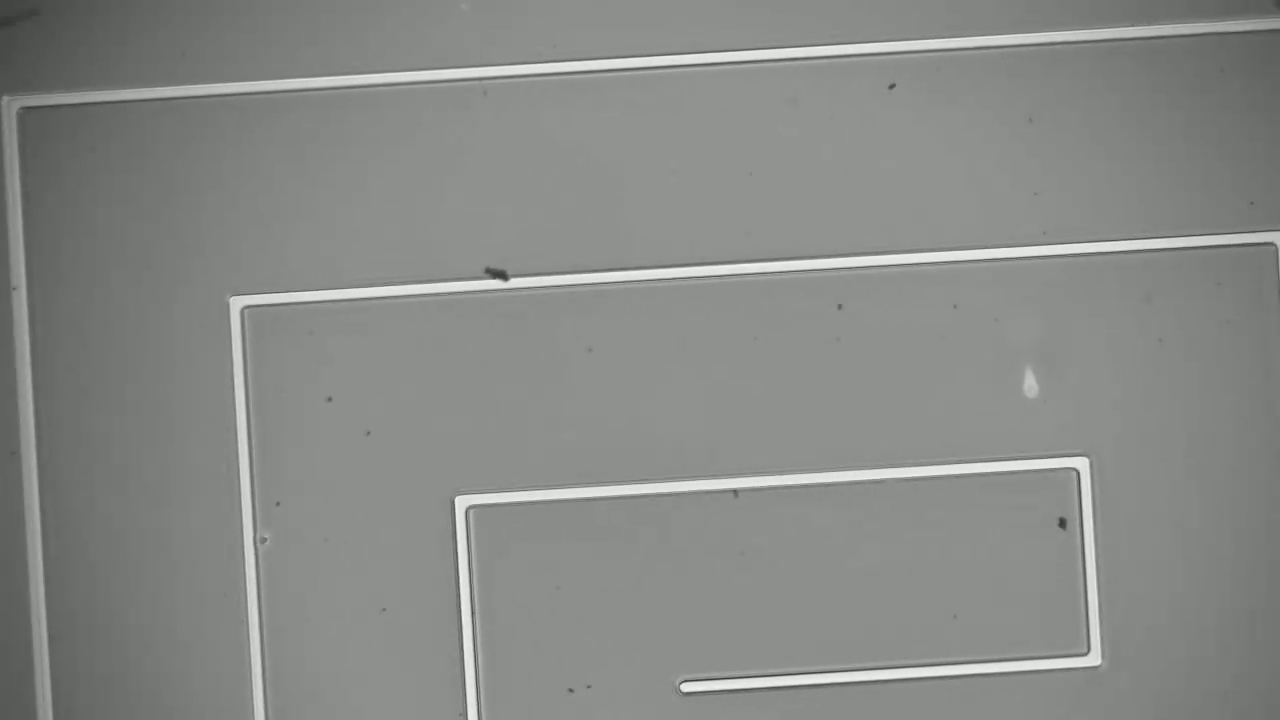stains_enbedded: (482, 262, 517, 295)
